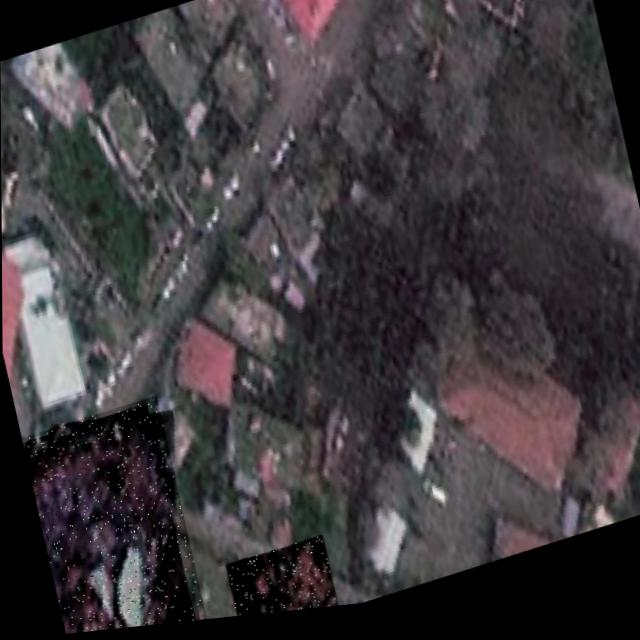Rubble: (20, 393, 212, 639), (223, 540, 337, 622)
